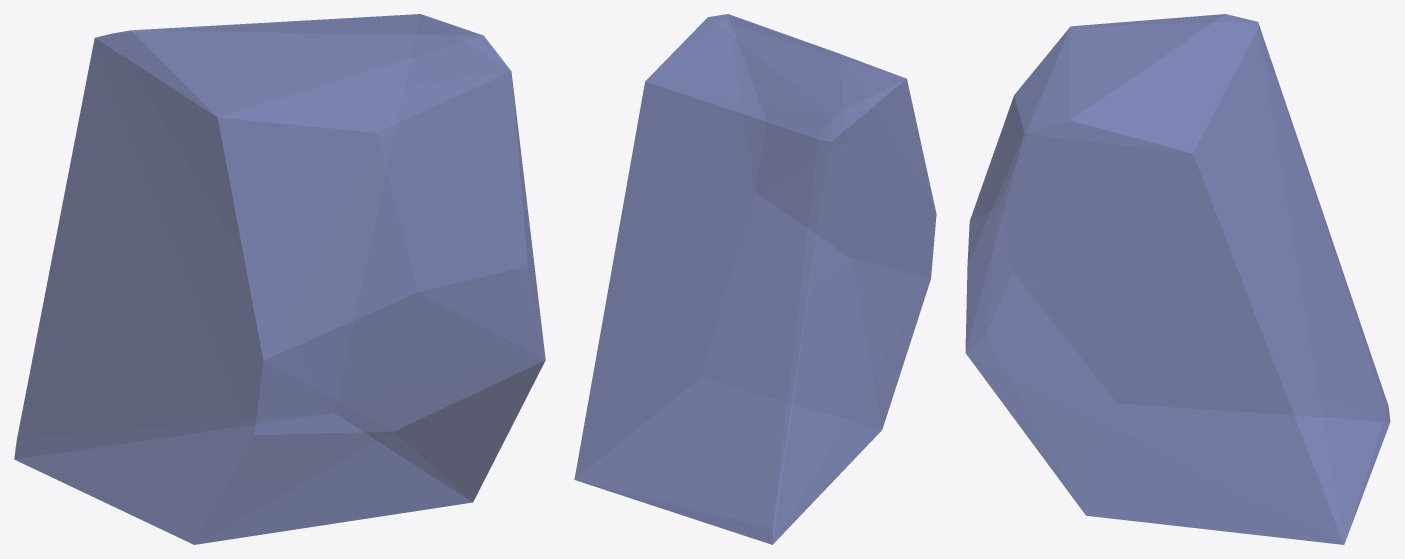
3 renders of one model, left to right at view 1: azimuth 30°, elevation 25°; view 2: azimuth 150°, elevation 25°; view 3: azimuth 270°, elevation 25°, orthographic. The views are drawn at different scales.
Parts seen in each view (by area): view 1: Shape_IndexedFaceSet.025_Shape_IndexedFaceSet.18003; view 2: Shape_IndexedFaceSet.025_Shape_IndexedFaceSet.18003; view 3: Shape_IndexedFaceSet.025_Shape_IndexedFaceSet.18003.
Boxes of the visible parts, <box> form: Shape_IndexedFaceSet.025_Shape_IndexedFaceSet.18003: <box>14,14,545,544</box>; Shape_IndexedFaceSet.025_Shape_IndexedFaceSet.18003: <box>574,14,936,544</box>; Shape_IndexedFaceSet.025_Shape_IndexedFaceSet.18003: <box>965,14,1390,544</box>.
Bounding box in the file's own units: 0.1312 × 0.2152 × 0.1977.
